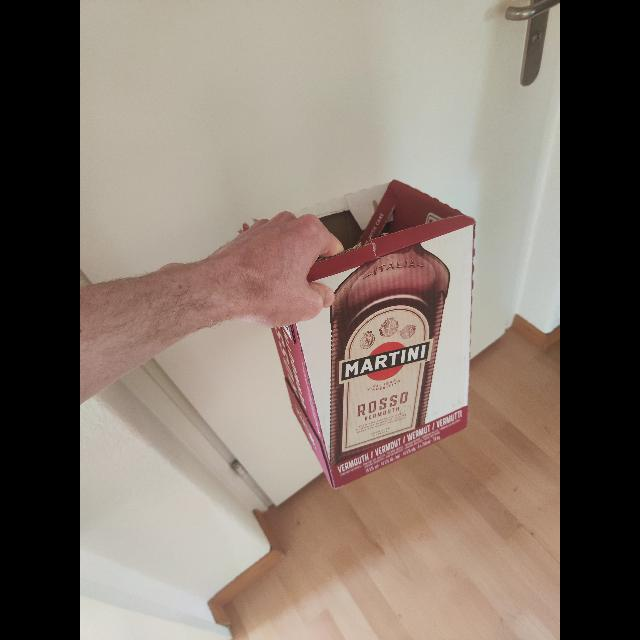Cardboard: (231, 177, 474, 487)
